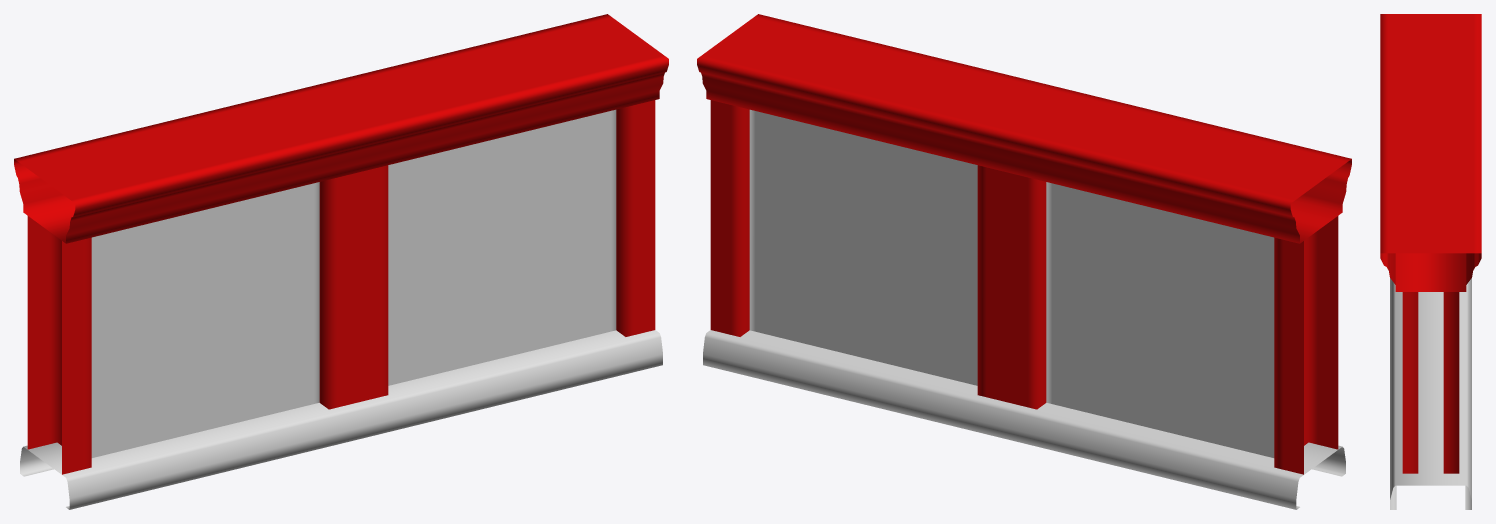
The model's file is SM_RailA2m.fbx.
3 views of the same model, side by side, from view 1: azimuth 30°, elevation 25°; view 2: azimuth 150°, elevation 25°; view 3: azimuth 270°, elevation 25° (orthographic). The views are drawn at different scales.
Parts seen in each view (by area): view 1: SM_RailA2m; view 2: SM_RailA2m; view 3: SM_RailA2m.
Boxes of the visible parts, left/top/right/bottom form: SM_RailA2m: left=14, top=14, right=668, bottom=509; SM_RailA2m: left=697, top=14, right=1351, bottom=509; SM_RailA2m: left=1380, top=14, right=1481, bottom=509.
Size of the model in its own units: 200 by 100 by 35.73.
